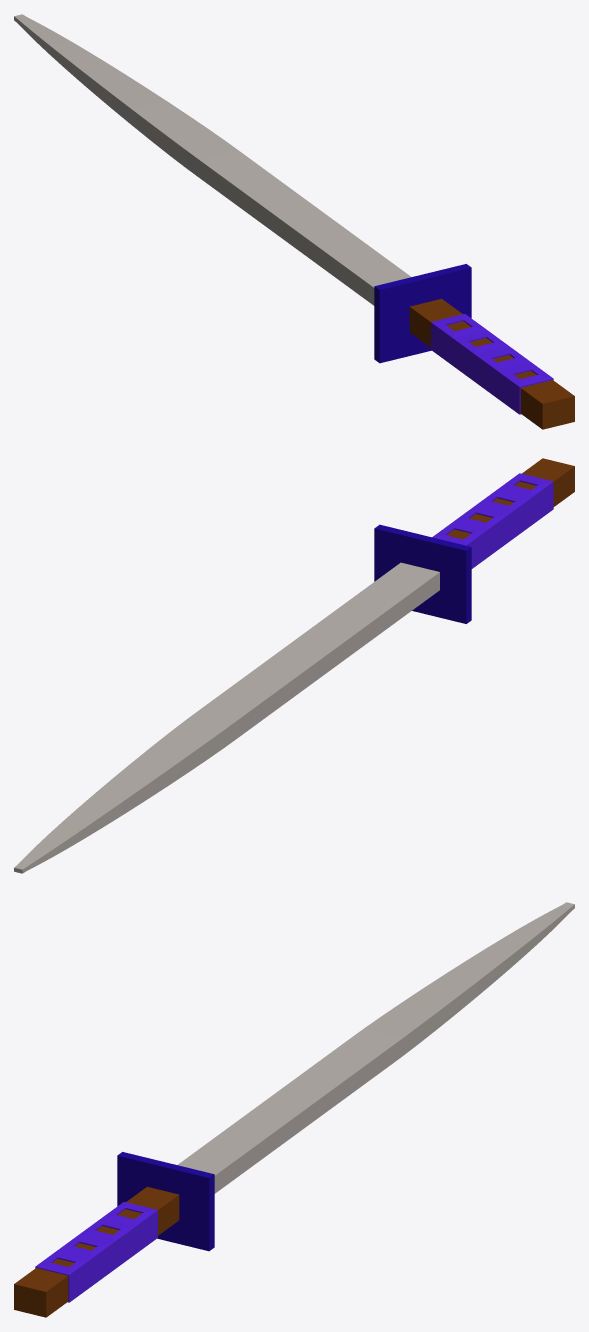
The model's file is katana.fbx.
3 renders of one model, top to bottom at view 1: azimuth 30°, elevation 25°; view 2: azimuth 150°, elevation 25°; view 3: azimuth 330°, elevation 25°, orthographic.
Parts seen in each view (by area): view 1: Cube; view 2: Cube; view 3: Cube.
Part boxes in pixels (bbox=[...]): Cube: bbox=[14, 14, 574, 429]; Cube: bbox=[14, 458, 574, 873]; Cube: bbox=[14, 902, 574, 1317].
Bounding box in the file's own units: 39.91 × 30.37 × 406.
